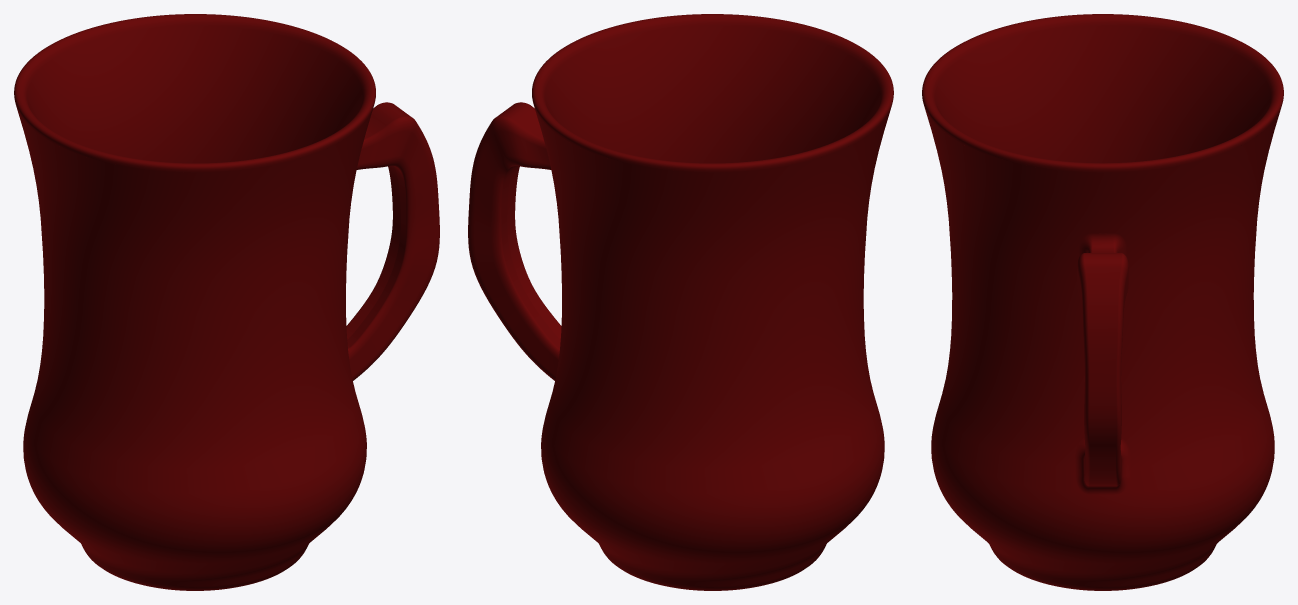
File: sunflower.glb
3 views of the same model, side by side, from view 1: azimuth 30°, elevation 25°; view 2: azimuth 150°, elevation 25°; view 3: azimuth 270°, elevation 25° (orthographic).
Bounding box in the file's own units: 0.0821 × 0.0915 × 0.0653.
